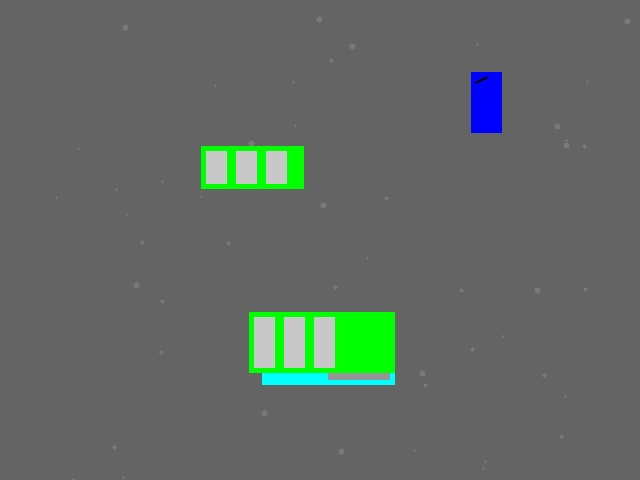bus: (249, 312, 394, 372), (201, 146, 303, 188)
motorcycle: (471, 72, 501, 132)
truck: (262, 325, 394, 384)
